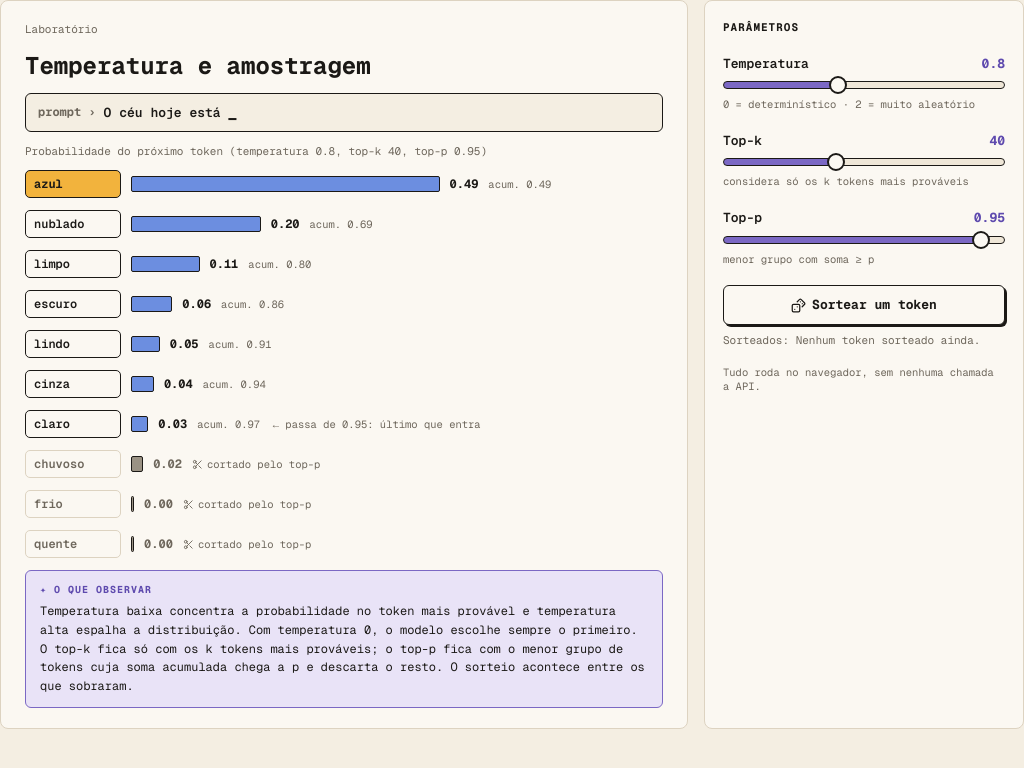
Test: SamplingPlayground (LAB-01.1, LAB-01.2) › os sorteios seguem o RNG e o último fica em destaque na cena
Set the slider labelled "Temperatura" to "1" at (864, 85), box left=723, top=81, right=1005, bottom=89
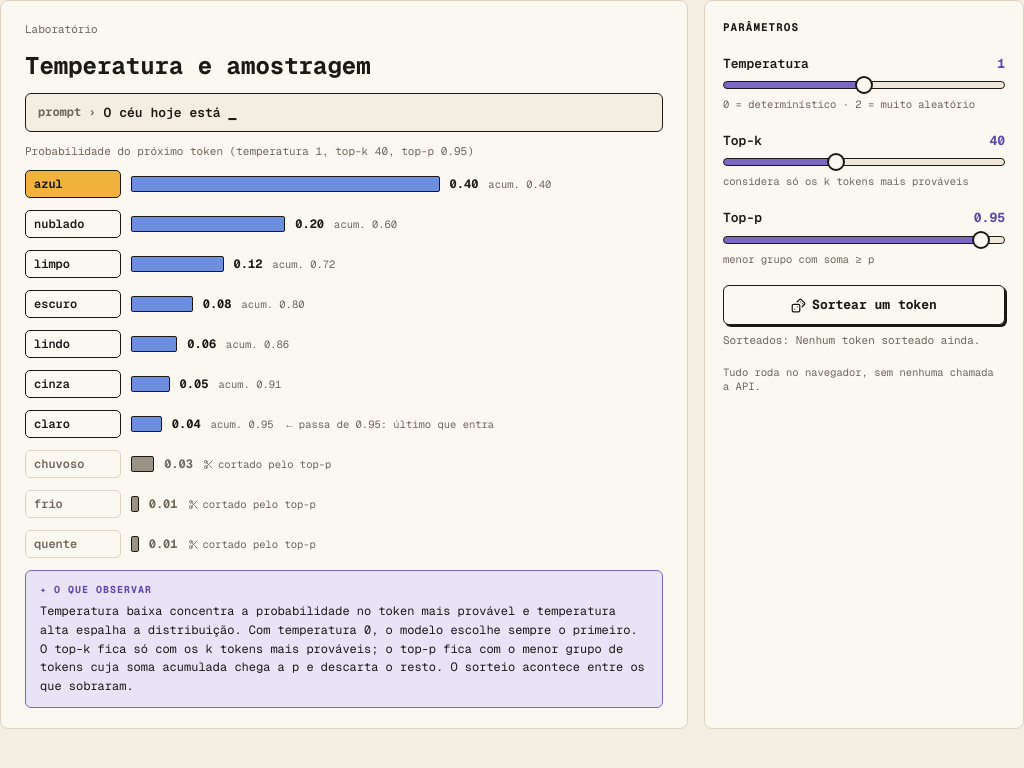
Set the slider labelled "Top-p" to "1" at (997, 240), box left=723, top=236, right=1005, bottom=244
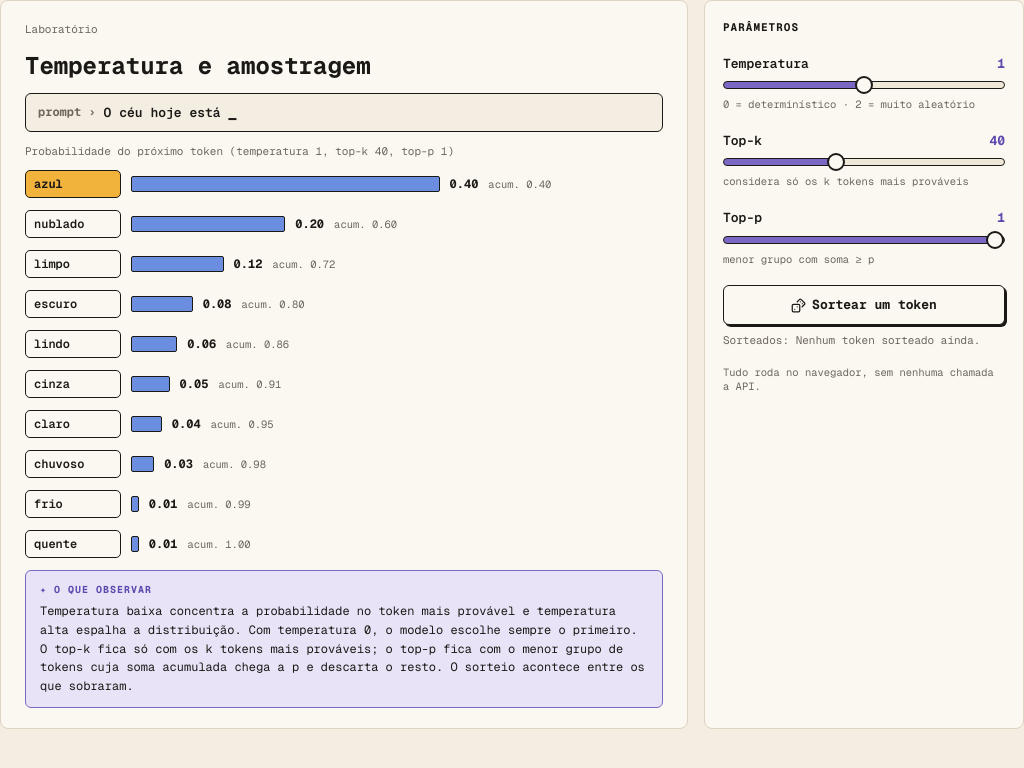
Click the button "Sortear um token" at (864, 305), box left=723, top=285, right=1005, bottom=325
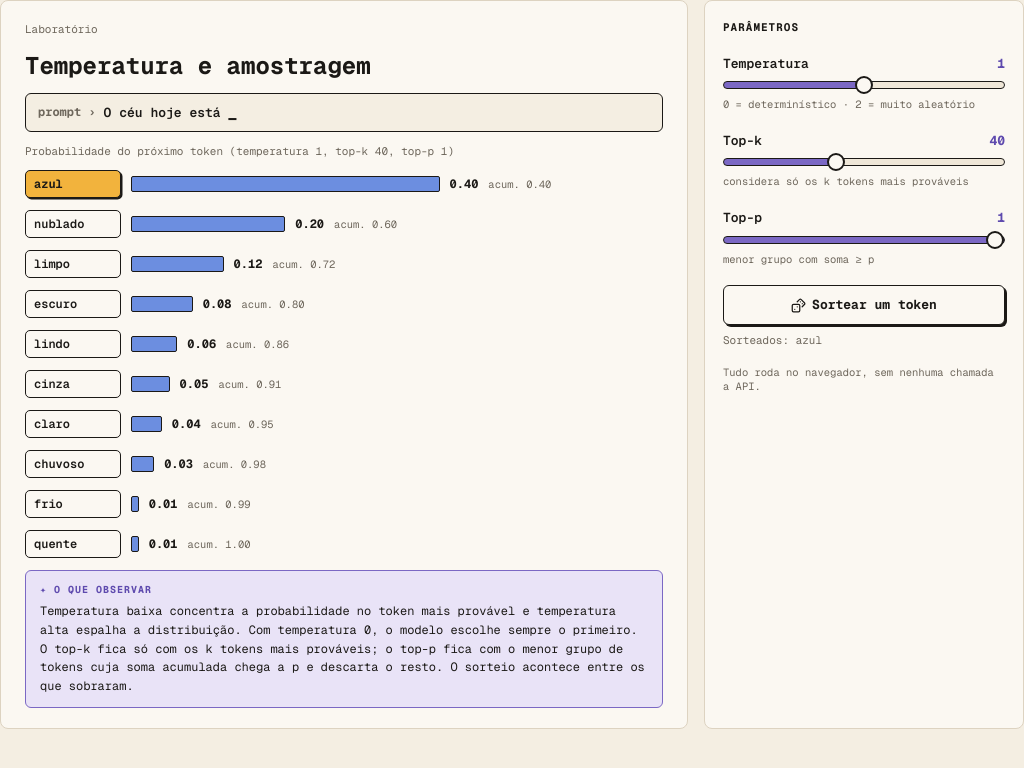
Click the button "Sortear um token" at (864, 305), box left=723, top=285, right=1005, bottom=325
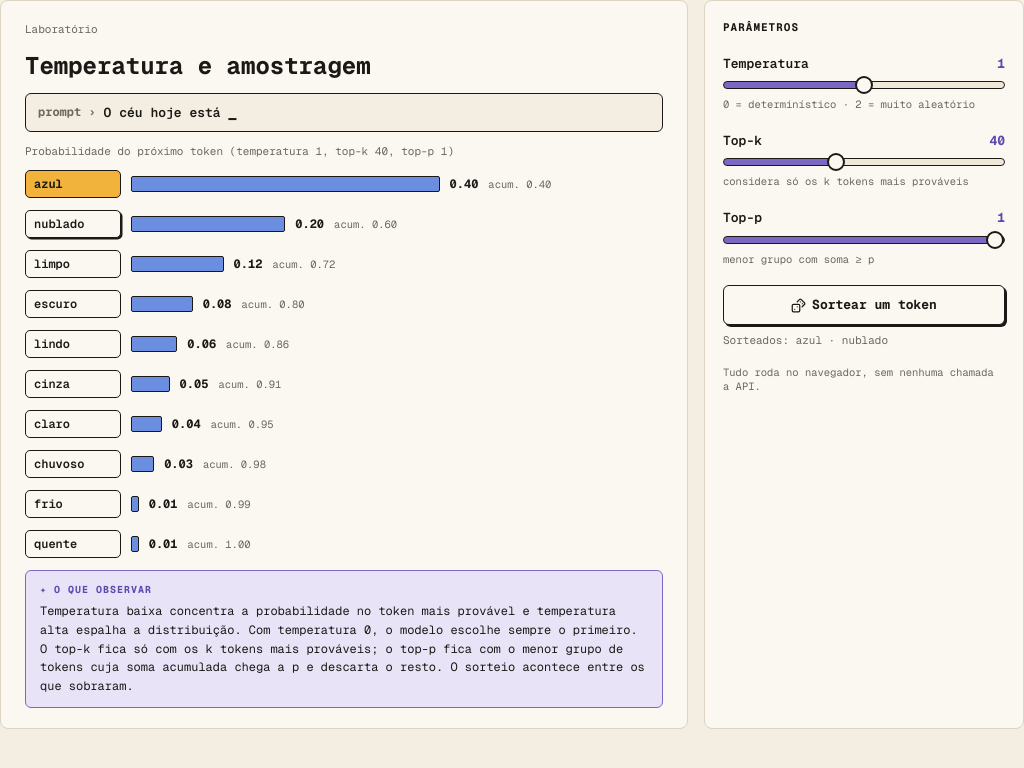
Click the button "Sortear um token" at (864, 305), box left=723, top=285, right=1005, bottom=325
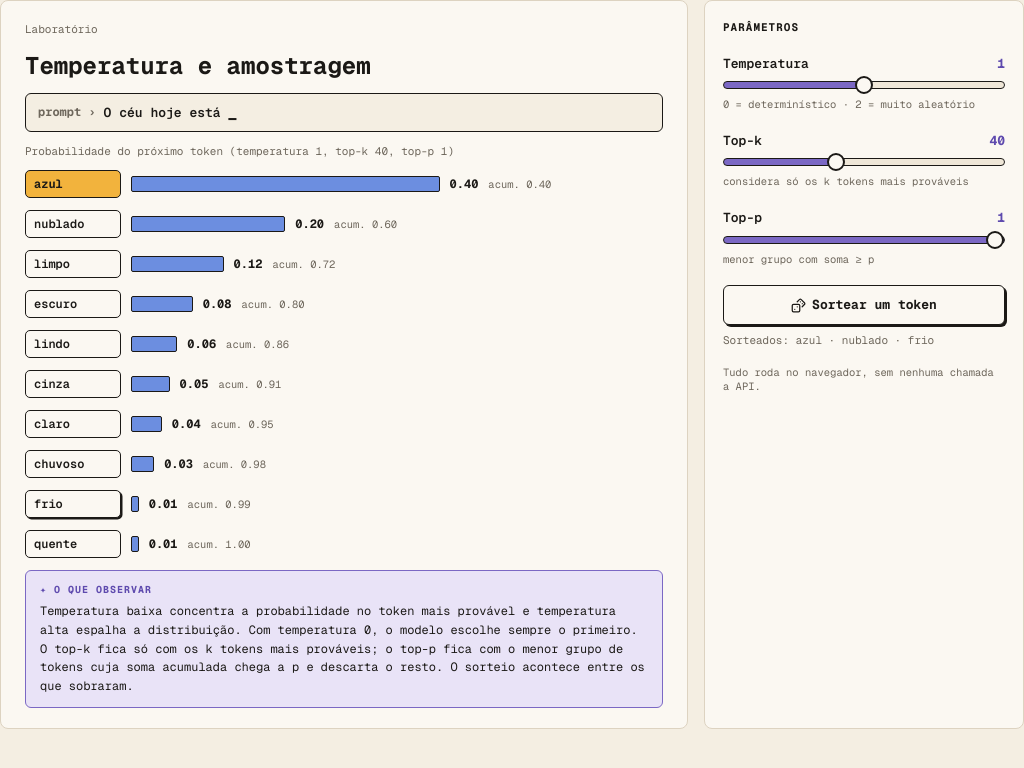
Expected: the text "azul · nublado · frio" is shown, left=796, top=333, right=934, bottom=347
